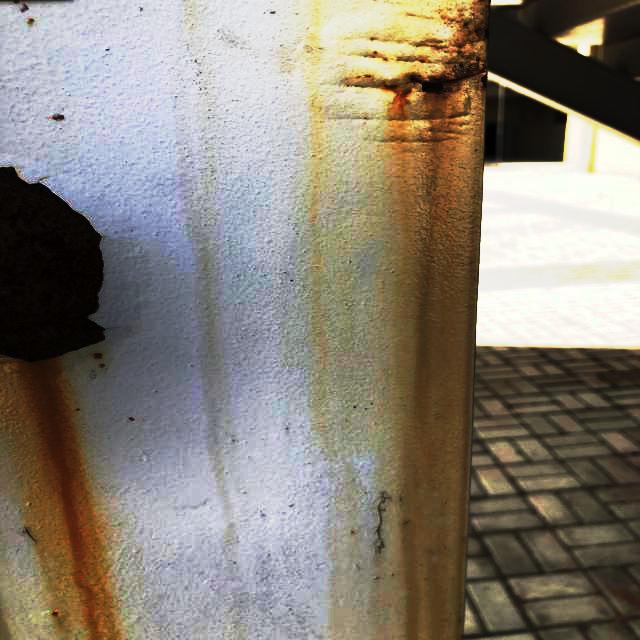Corrosion: (0, 165, 109, 366), (357, 0, 491, 100)
